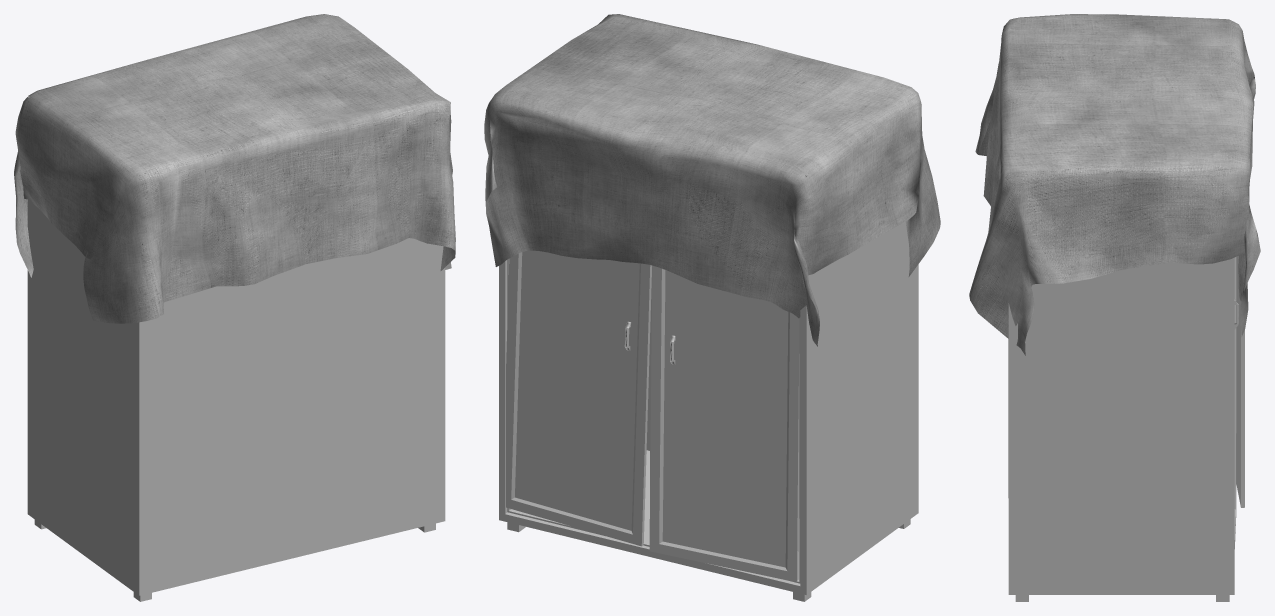
File: DAMAGED GOODS 1.fbx
3 views of the same model, side by side, from view 1: azimuth 30°, elevation 25°; view 2: azimuth 150°, elevation 25°; view 3: azimuth 270°, elevation 25° (orthographic).
Parts seen in each view (by area): view 1: DAMAGED GOODS 1; view 2: DAMAGED GOODS 1; view 3: DAMAGED GOODS 1.
Boxes of the visible parts, <box> form: DAMAGED GOODS 1: <box>14,14,455,601</box>; DAMAGED GOODS 1: <box>484,14,940,601</box>; DAMAGED GOODS 1: <box>969,14,1260,601</box>.
Bounding box in the file's own units: 1.53 × 1.82 × 1.08.
